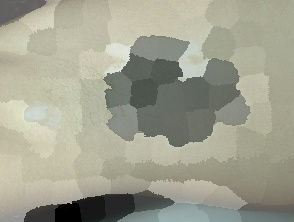vitiligo: (3, 0, 278, 187)
